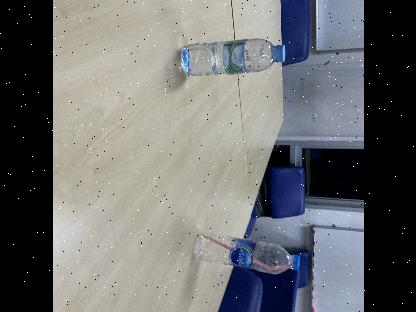Plastic Bottle: (190, 234, 300, 276), (178, 37, 286, 77)
